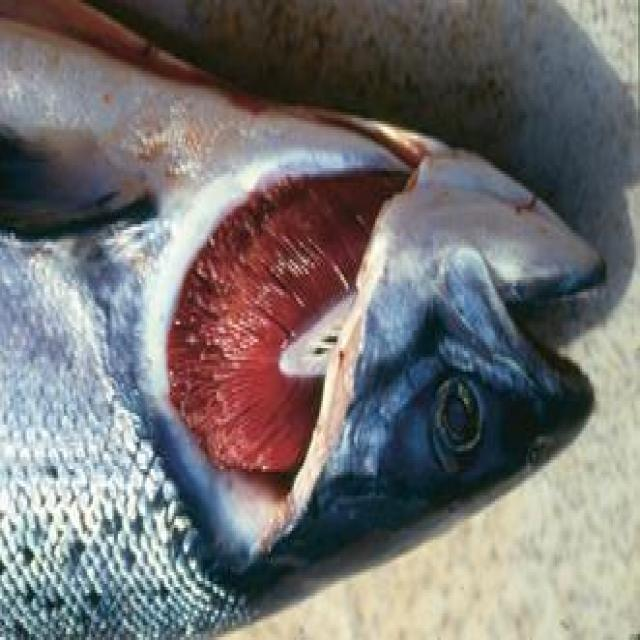Gill Disease: (82, 67, 546, 565)
